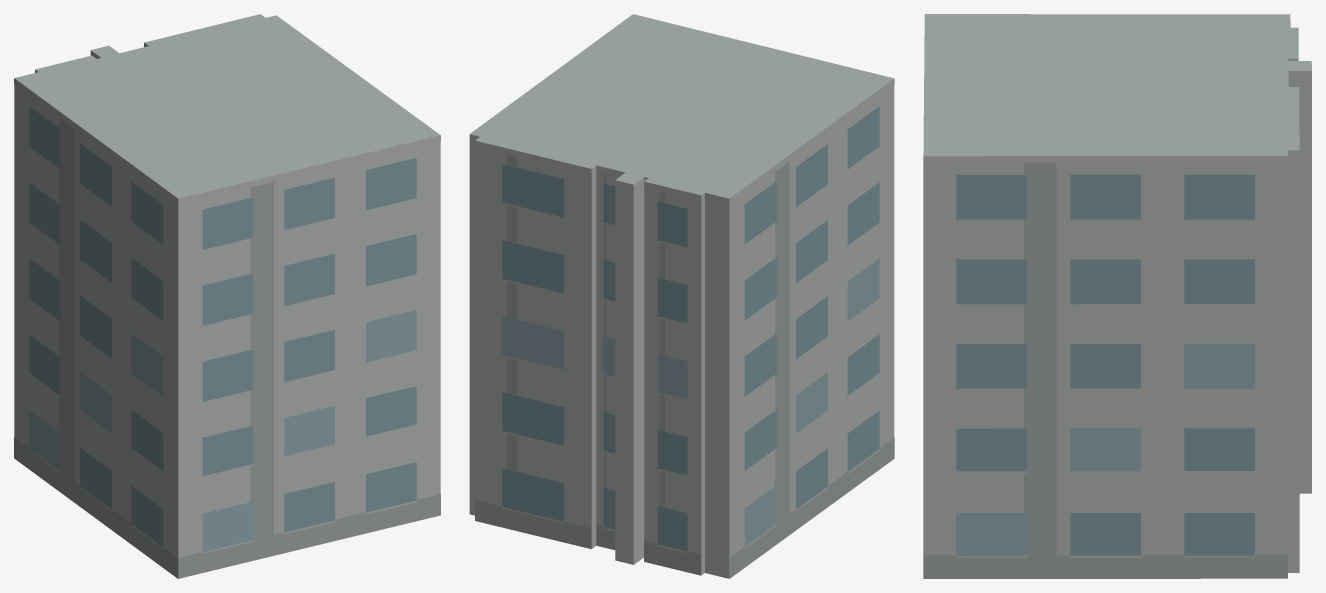
File: survey-upis-32875492.glb
The picture shows the model from 3 angles, left to right: view 1: azimuth 30°, elevation 25°; view 2: azimuth 150°, elevation 25°; view 3: azimuth 270°, elevation 25°; orthographic projection. The views are drawn at different scales.
Parts seen in each view (by area): view 1: survey-upis-32875492.tmp; view 2: survey-upis-32875492.tmp; view 3: survey-upis-32875492.tmp.
Part boxes in pixels (x1,y1,x2,y2): survey-upis-32875492.tmp: [14, 14, 440, 578]; survey-upis-32875492.tmp: [469, 14, 894, 578]; survey-upis-32875492.tmp: [923, 14, 1311, 578].
Size of the model in its own units: 10.41 by 14.4 by 12.
